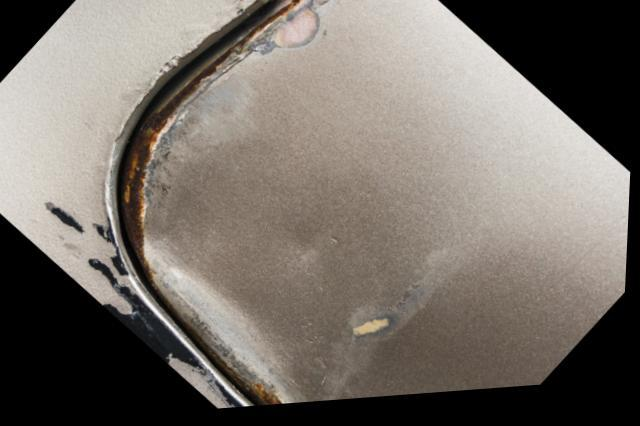dent: (146, 143, 356, 409)
scratch: (35, 195, 255, 412), (232, 0, 378, 62)
